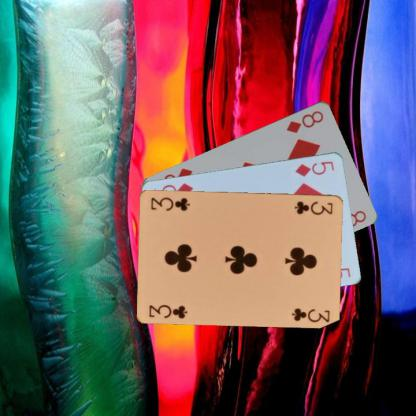3c: (147, 301, 189, 320), (292, 198, 334, 216)
5d: (293, 158, 336, 178)
8d: (284, 108, 324, 134)
